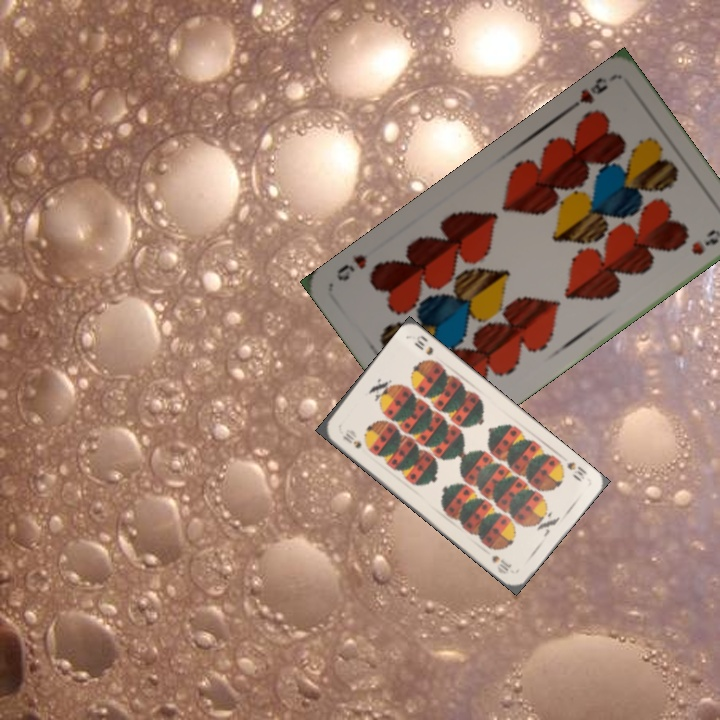H9: (563, 73, 611, 114)
S10: (563, 457, 590, 484), (338, 429, 364, 451)
